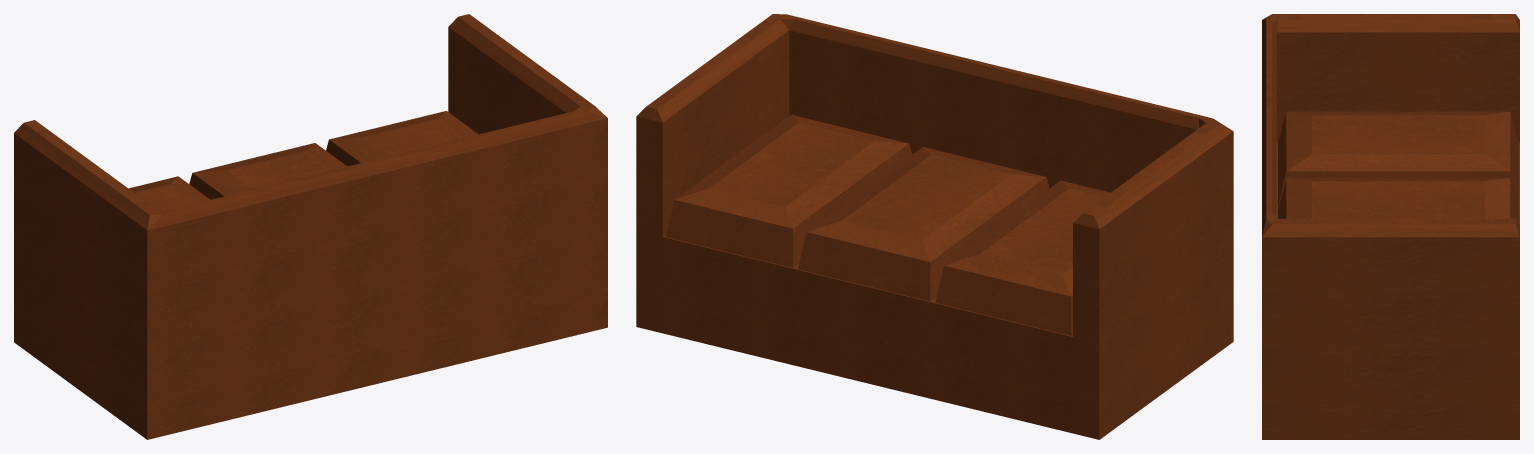
Rendered from sofa3.glb.
3 renders of one model, left to right at view 1: azimuth 30°, elevation 25°; view 2: azimuth 150°, elevation 25°; view 3: azimuth 270°, elevation 25°, orthographic. The views are drawn at different scales.
Visible parts, largest first — view 1: Cube.011; view 2: Cube.011; view 3: Cube.011.
Part boxes in pixels (box(x1,y1,x2,y2)): Cube.011: box(14, 14, 607, 439); Cube.011: box(636, 14, 1233, 439); Cube.011: box(1262, 14, 1519, 439).
Bounding box in the file's own units: 1.96 × 0.8931 × 0.984.
Materials: 1 (1 with a texture image).
